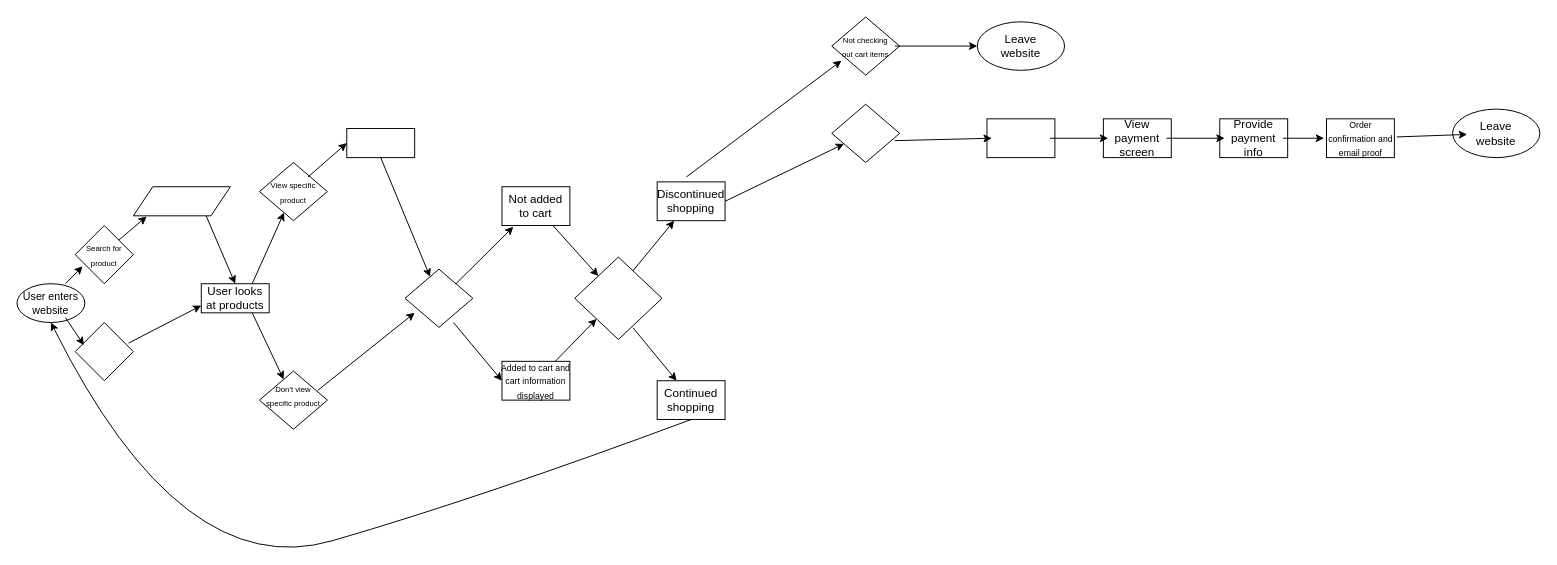
This 1557x565 diagram has some shape labels left out. The box of each missing label's shape, as (x1, y1, x2, y2) in pixels:
Checking out cart items: (831, 103, 900, 162)
Decide whether or not to continue shopping: (574, 256, 662, 340)
Decision to add to cart: (404, 268, 473, 327)
Exploring Home Page: (74, 322, 133, 381)
Input data provided to website: (132, 186, 230, 216)
Product webpage open: (346, 128, 415, 158)
View cart screen: (986, 118, 1055, 158)
